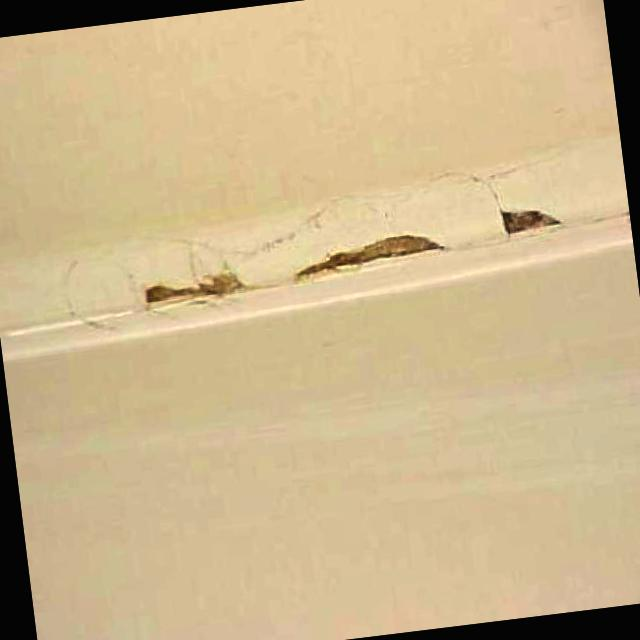crack: (253, 200, 337, 248), (512, 211, 626, 241), (469, 168, 509, 208)
